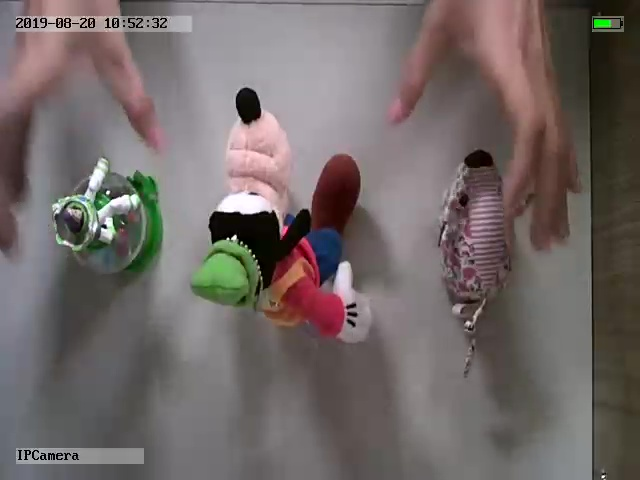buzz: (50, 156, 165, 280)
goofy: (190, 86, 372, 344)
pig: (437, 149, 532, 380)
